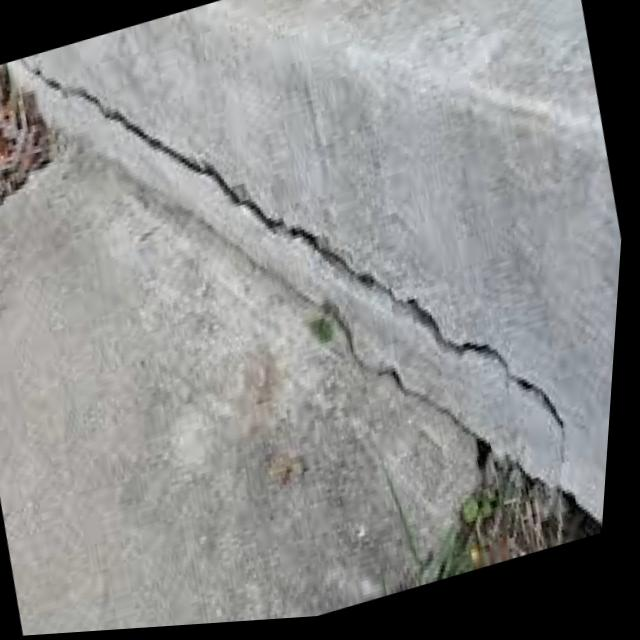Crack: (93, 56, 310, 300), (337, 212, 533, 445)
